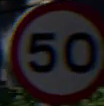Speed limit: (10, 5, 99, 96)
